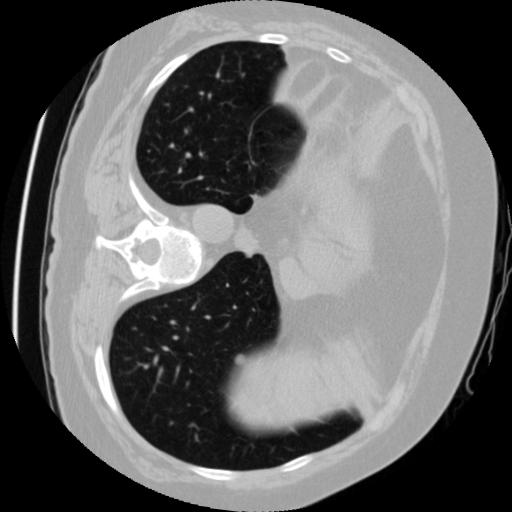nodule: (232, 353, 250, 371)
